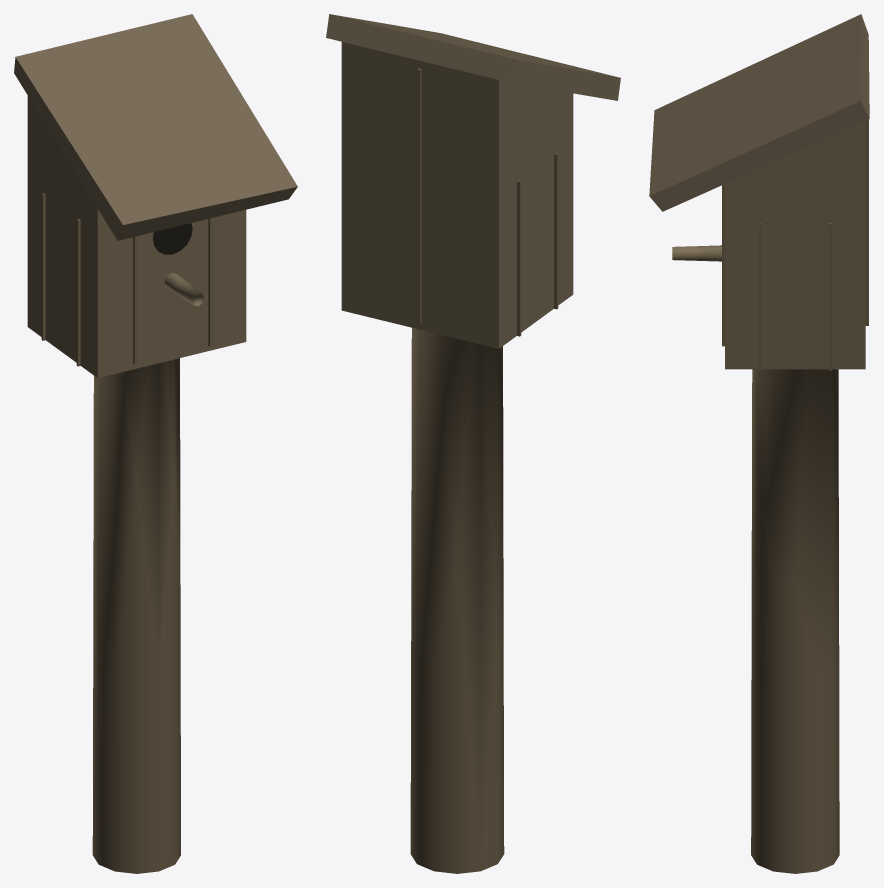
Rendered from nest-box-v1.glb.
The picture shows the model from 3 angles, left to right: view 1: azimuth 30°, elevation 25°; view 2: azimuth 150°, elevation 25°; view 3: azimuth 270°, elevation 25°; orthographic projection. The views are drawn at different scales.
Visible parts, largest first — view 1: box, post, entrance, perch; view 2: box, post; view 3: box, post, perch.
Boxes of the visible parts, left/top/right/bottom form: box: left=14, top=14, right=297, bottom=377; post: left=41, top=193, right=212, bottom=873; entrance: left=152, top=223, right=192, bottom=254; perch: left=164, top=273, right=204, bottom=305; box: left=326, top=14, right=620, bottom=348; post: left=410, top=68, right=558, bottom=873; box: left=649, top=14, right=869, bottom=369; post: left=722, top=119, right=868, bottom=873; perch: left=672, top=245, right=721, bottom=261.
Bounding box in the file's own units: 0.2914 × 1.25 × 0.3136.
Materials: 4 (4 with a texture image).
